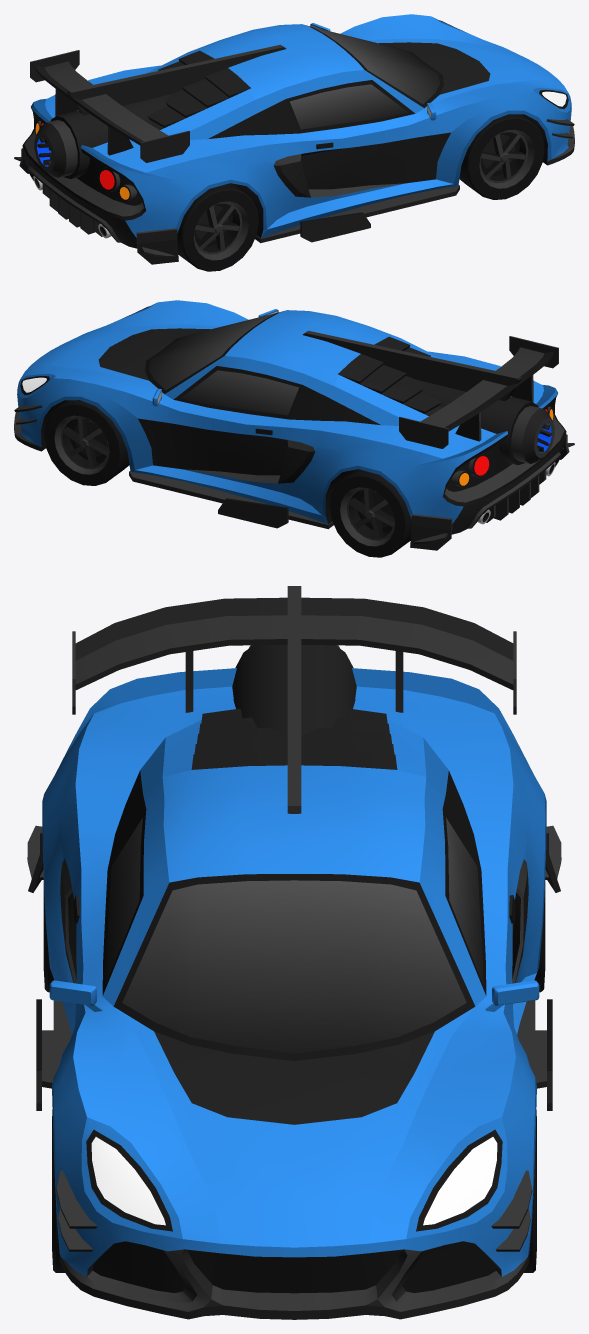
File: Car_245.glb
The picture shows the model from 3 angles, top to bottom: view 1: azimuth 30°, elevation 25°; view 2: azimuth 150°, elevation 25°; view 3: azimuth 270°, elevation 25°; orthographic projection. The views are drawn at different scales.
Visible parts, largest first — view 1: Car_245, wheel_3_Car_245_Wheel_2R, wheel_1_Car_245_Wheel_1R; view 2: Car_245, wheel_2_Car_245_Wheel_2L, wheel_0_Car_245_Wheel_1L; view 3: Car_245.
Boxes of the visible parts, x1,y1,x2,y2 form: Car_245: (14,14,574,264); wheel_3_Car_245_Wheel_2R: (177,183,258,271); wheel_1_Car_245_Wheel_1R: (459,114,544,199); Car_245: (14,300,574,550); wheel_2_Car_245_Wheel_2L: (330,469,411,557); wheel_0_Car_245_Wheel_1L: (44,400,129,485); Car_245: (27,586,561,1319).
Size of the model in its own units: 4.18 by 1.23 by 1.91.
3 materials, 3 textured.
